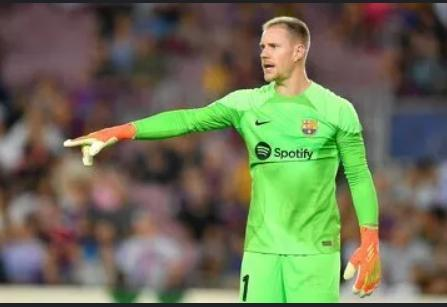goalkeeper: (57, 11, 413, 302)
